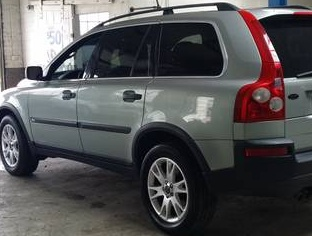volvo: (1, 2, 312, 235)
